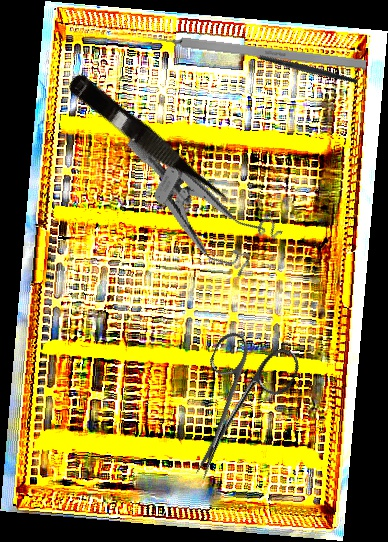Chopper: (238, 17, 359, 122)
Hook Surgical: (137, 31, 367, 70)
Iris Scissors: (163, 321, 304, 497)
Micro Scissor: (61, 70, 241, 219)
Speculum: (97, 132, 291, 286)
